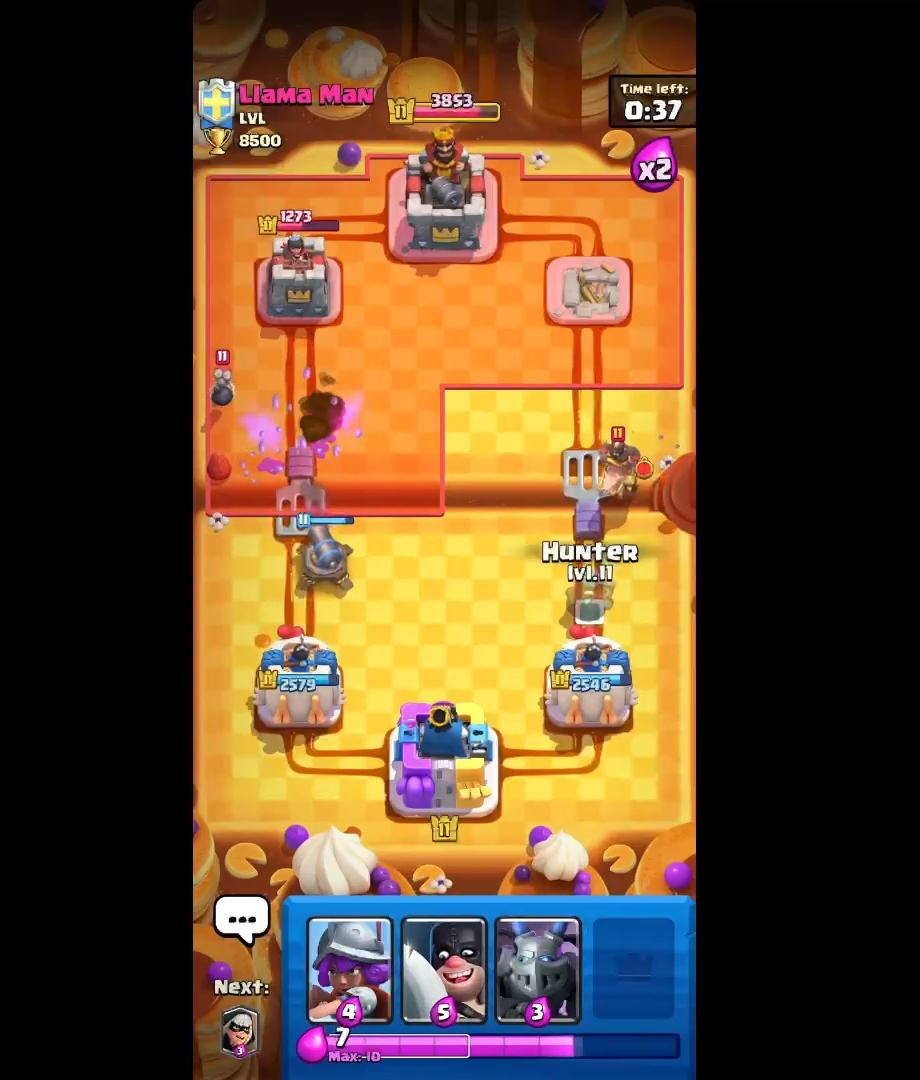Bomber: (206, 339, 246, 413)
Hog Rider: (589, 419, 654, 519)
